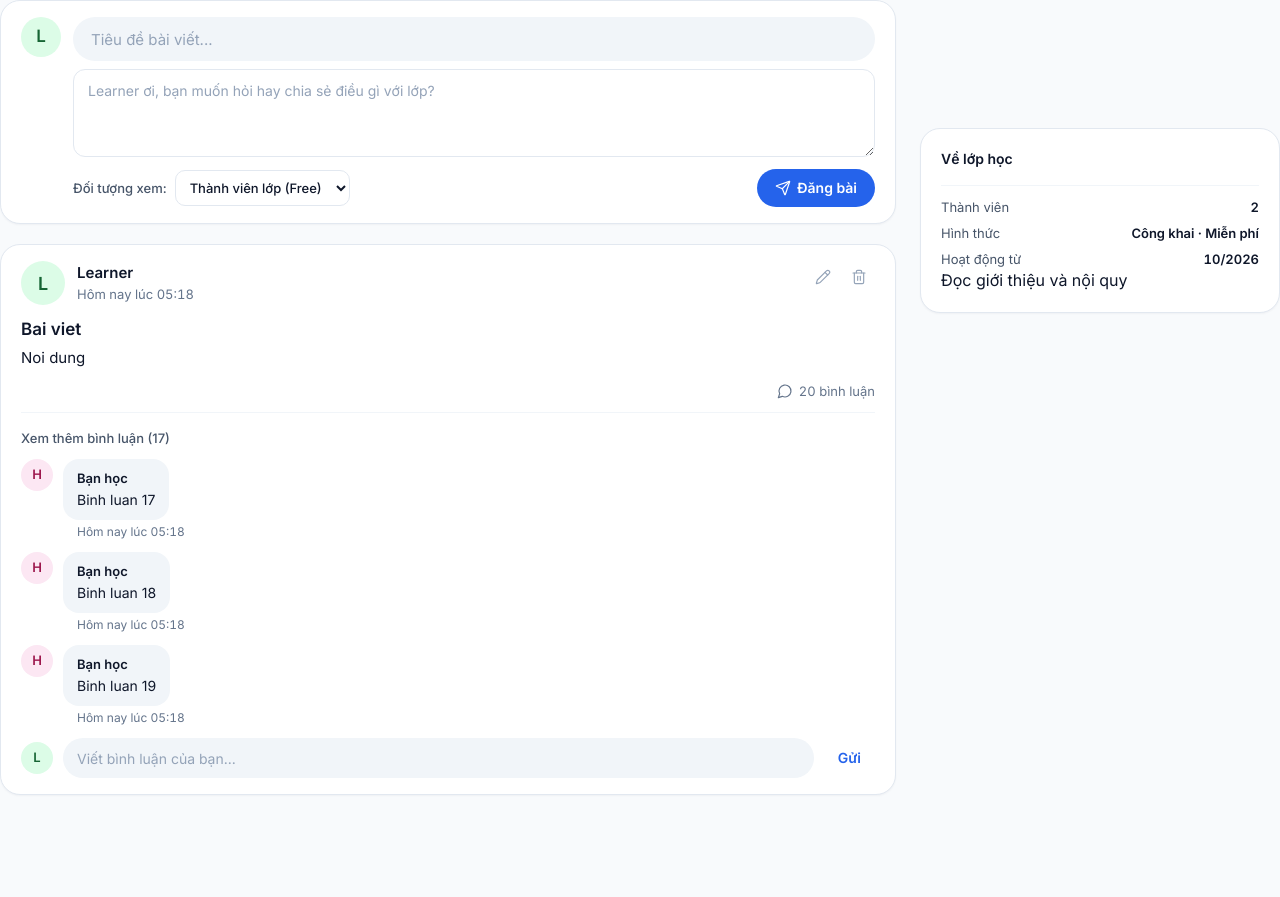
Test: FeedTab › R20-03: shows the total comment count and loads older comments with "Xem thêm bình luận"
Expected: the text "20 bình luận" is shown, [799, 382, 875, 400]
Expected: the text "Binh luan 19" is shown, [77, 675, 156, 696]
Click the button "Xem thêm bình luận (17)" at [95, 438], box [21, 429, 170, 447]
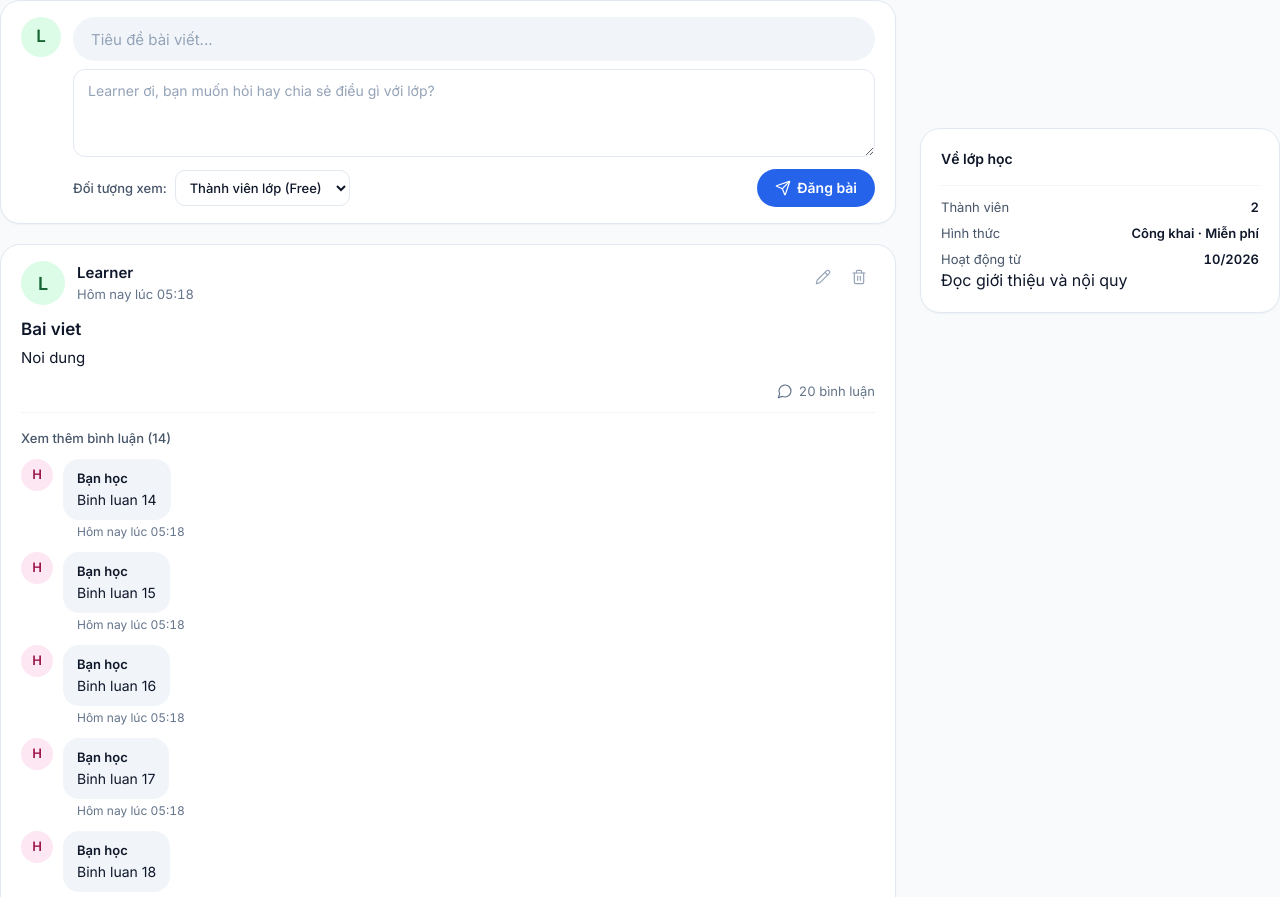
Expected: the text "Binh luan 16" is shown, [77, 675, 156, 696]
Expected: the button "Xem thêm bình luận (14)" is shown, [21, 429, 171, 447]
